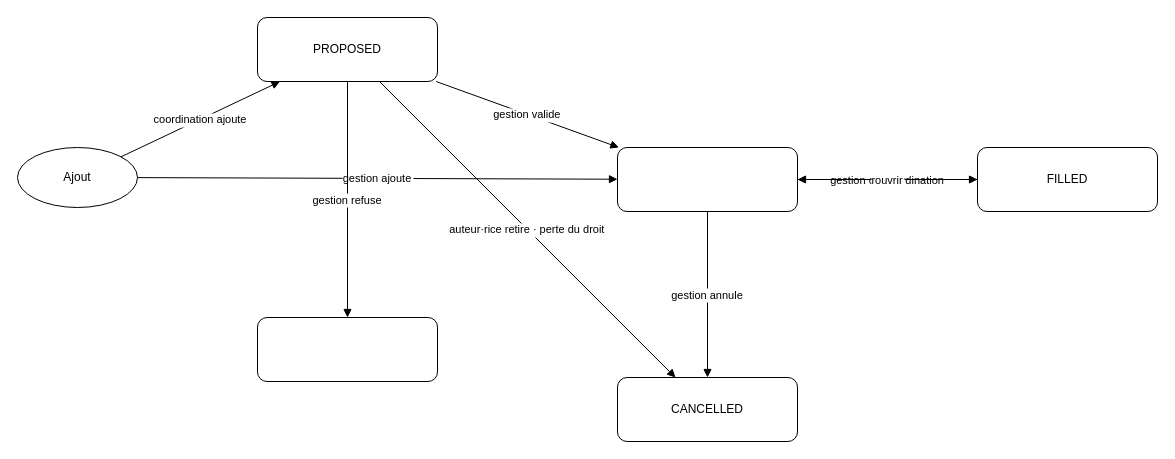
This 1175x459 diagram has some shape labels left out. Each missing label, with the centre of its shape:
"DECLINED" belongs at [347,349].
"OPEN" belongs at [707,179].
